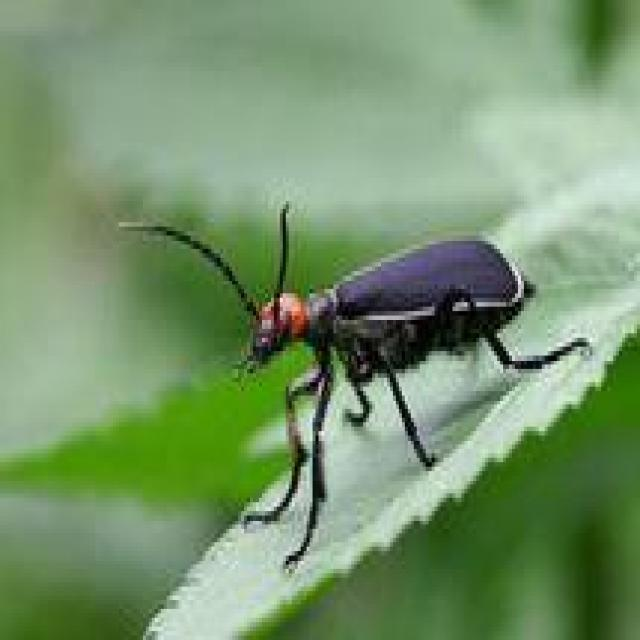BlisterBeetle-Adult-: (112, 183, 590, 498)
